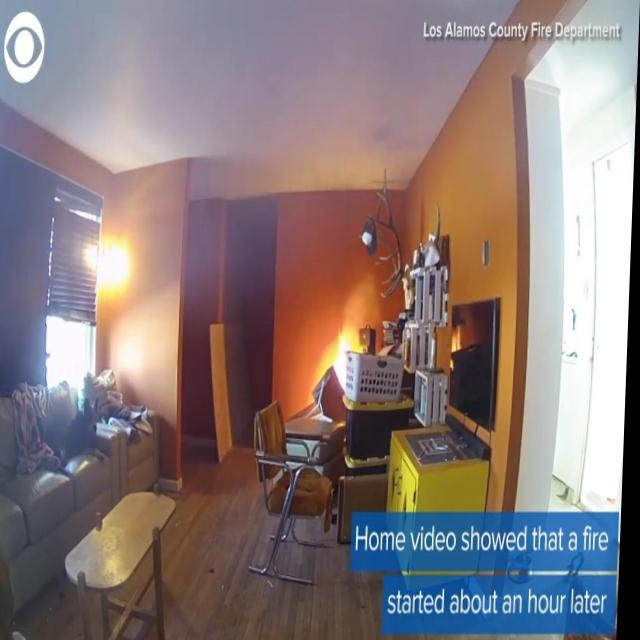fire: (331, 324, 359, 394)
